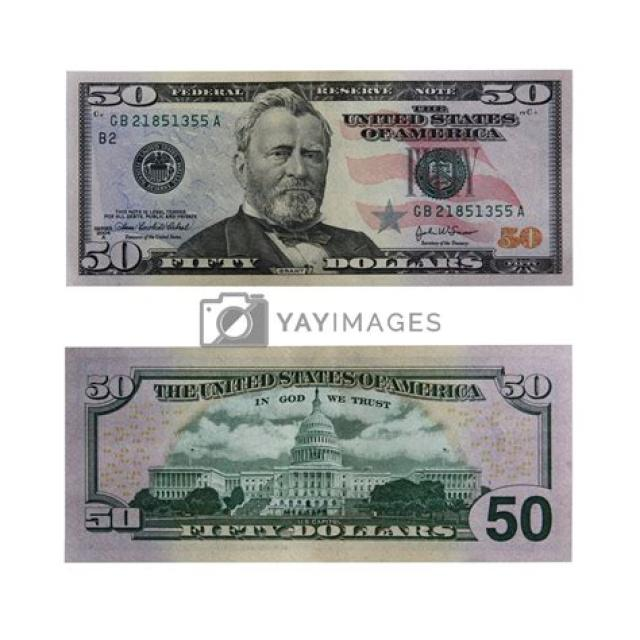Fifty: (66, 69, 570, 285), (69, 348, 572, 562)
